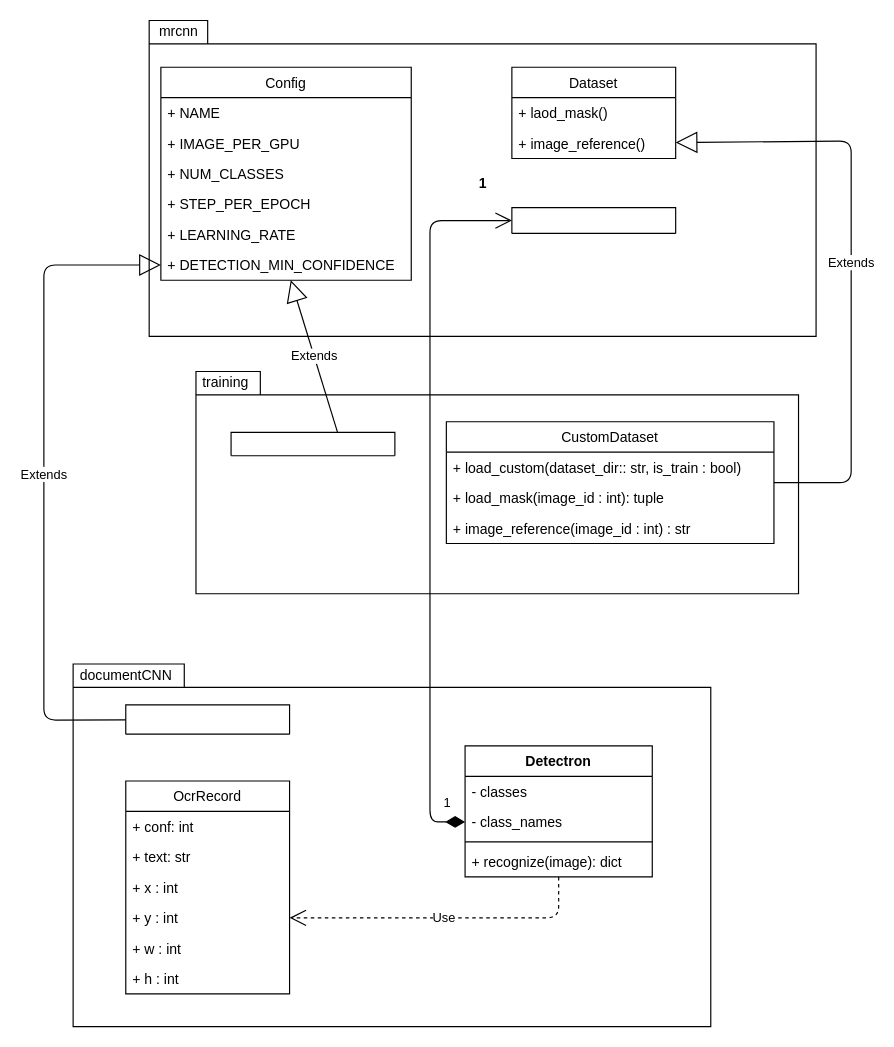
Image size: 894x1047. Some labels were removed from this diagram. Here are the shapes that lost their labels. From the top down, the centre of each, then its label:
the point at 593,220: Model
the point at 312,443: TrainingConfig
the point at 207,719: InferenceConfig
